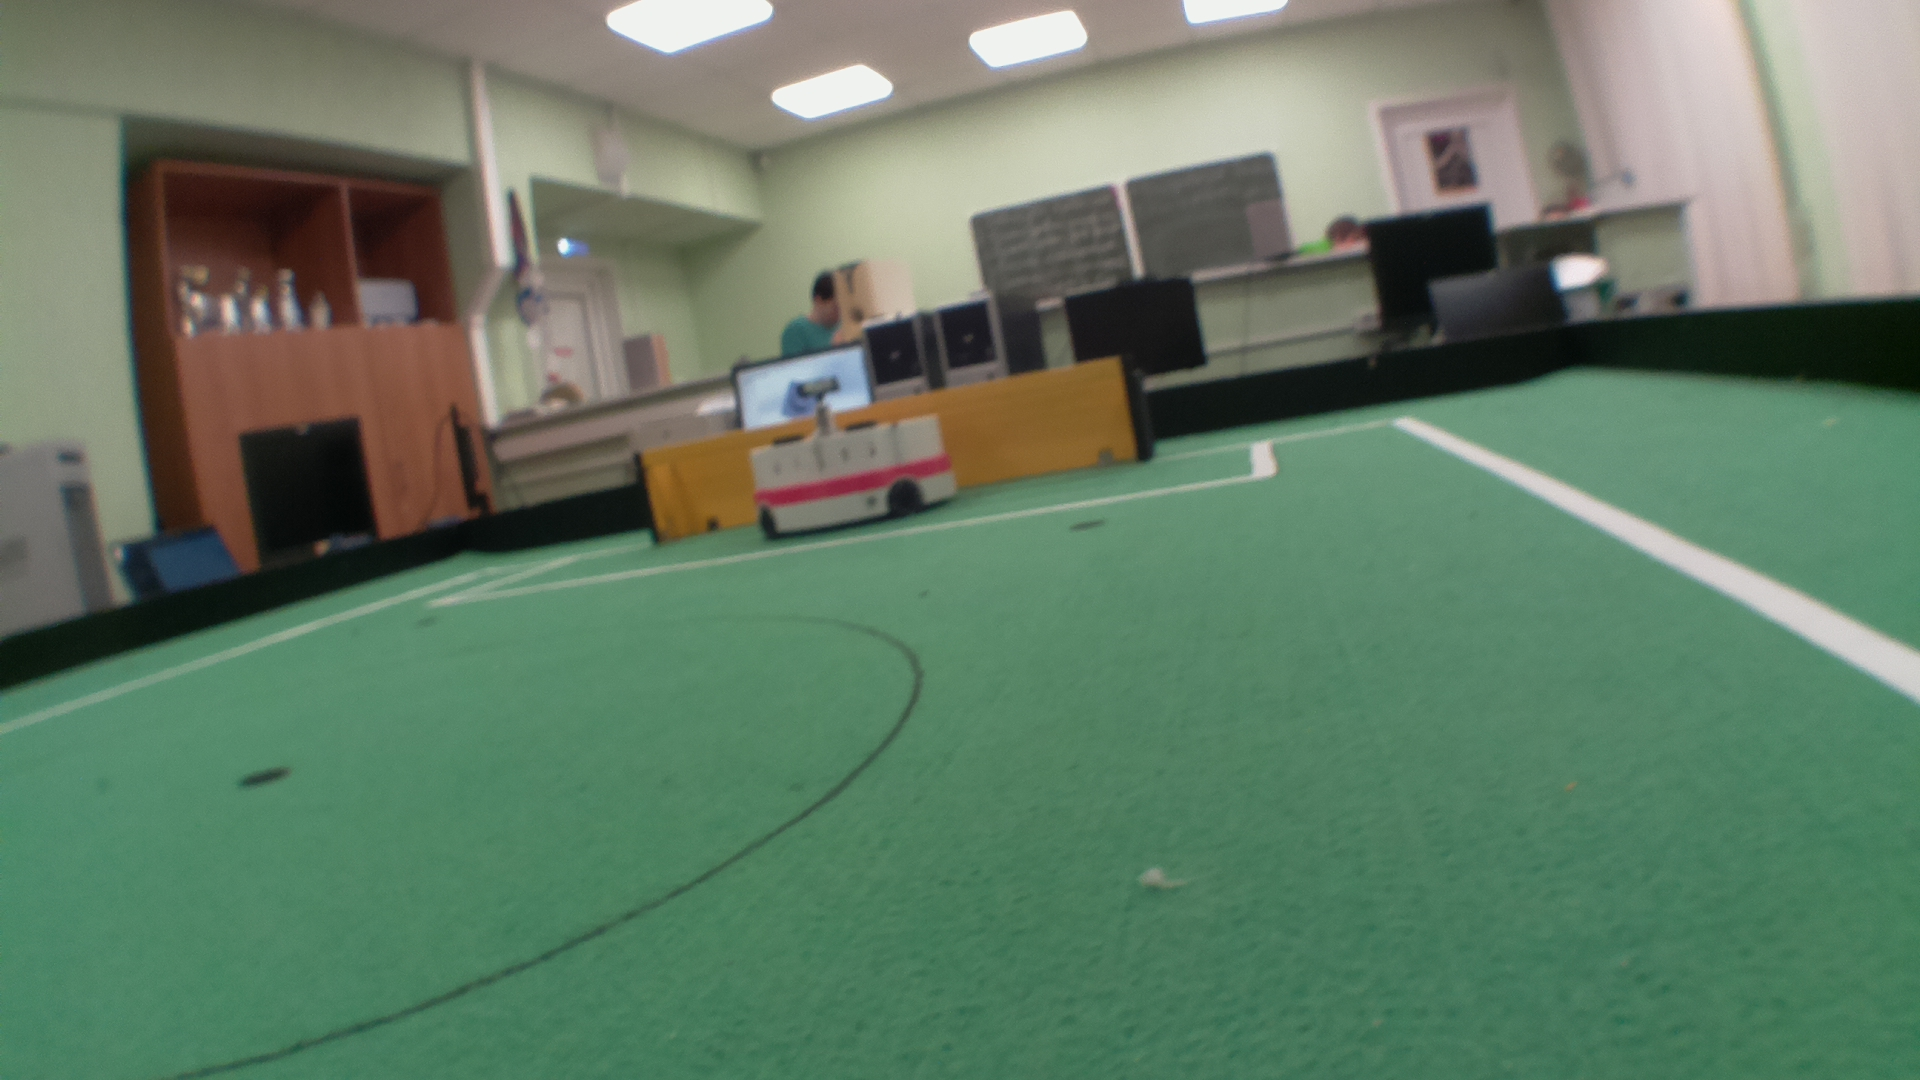YellowGoal: (641, 364, 1146, 508)
